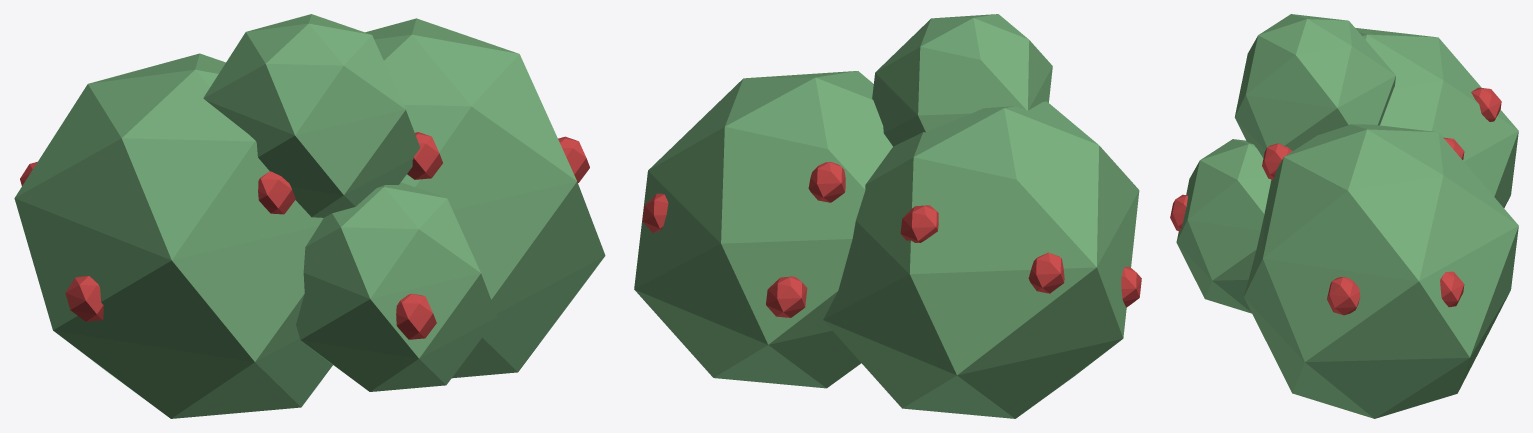
File: Bush 2.fbx
The picture shows the model from 3 angles, left to right: view 1: azimuth 30°, elevation 25°; view 2: azimuth 150°, elevation 25°; view 3: azimuth 270°, elevation 25°; orthographic projection. The views are drawn at different scales.
Parts seen in each view (by area): view 1: Bush_2; view 2: Bush_2; view 3: Bush_2.
Boxes of the visible parts, bbox=[...] form: Bush_2: bbox=[14, 14, 605, 418]; Bush_2: bbox=[634, 14, 1141, 418]; Bush_2: bbox=[1170, 14, 1518, 418].
Bounding box in the file's own units: 3.11 × 2.43 × 2.36.
1 material, 1 textured.
